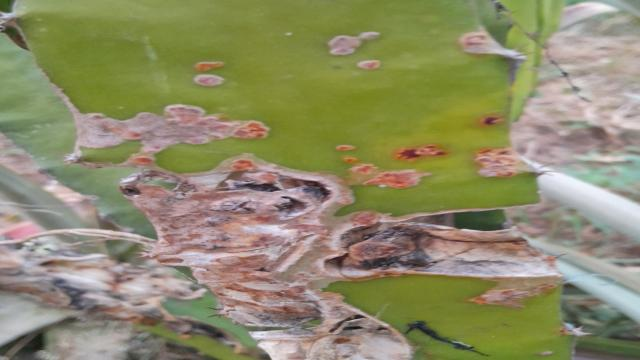stemcanker: (162, 24, 524, 102), (309, 133, 454, 205)
